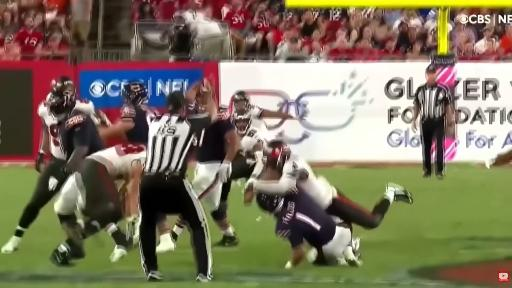Helmet: (46, 77, 76, 119), (264, 140, 291, 171), (122, 81, 148, 106), (256, 193, 283, 213), (232, 111, 251, 135), (233, 91, 250, 112)
Jersey: (275, 189, 335, 248), (283, 154, 333, 209), (59, 111, 104, 160), (88, 144, 146, 176), (196, 119, 234, 162), (38, 102, 65, 159), (121, 105, 158, 143), (240, 126, 267, 158), (248, 104, 269, 138)
Player: (2, 77, 107, 253), (246, 140, 413, 229), (54, 144, 145, 262), (256, 189, 353, 268), (192, 106, 239, 246), (48, 94, 104, 190), (221, 111, 266, 202), (100, 81, 158, 144), (101, 82, 157, 143), (232, 91, 294, 134), (485, 150, 511, 168)
